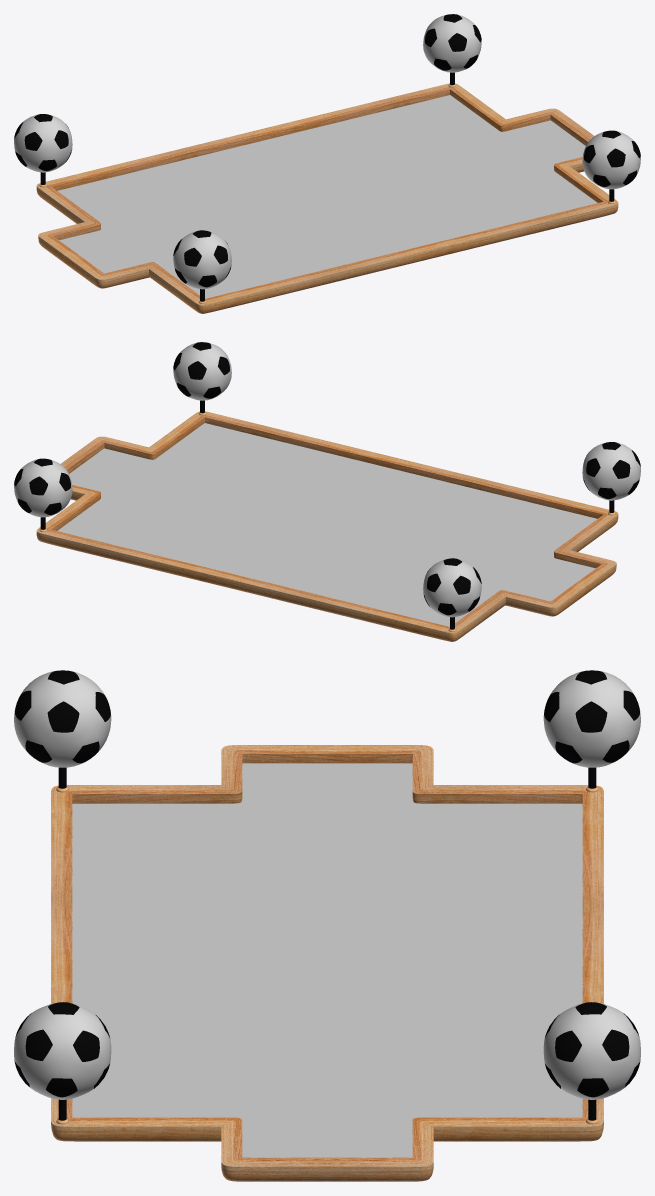
File: FootbalTable .fbx
3 renders of one model, top to bottom at view 1: azimuth 30°, elevation 25°; view 2: azimuth 150°, elevation 25°; view 3: azimuth 270°, elevation 25°, orthographic. The views are drawn at different scales.
Parts seen in each view (by area): view 1: FootbalTableField, FootbalTableBorder; view 2: FootbalTableField, FootbalTableBorder; view 3: FootbalTableField, FootbalTableBorder.
Boxes of the visible parts, bbox=[...] form: FootbalTableField: bbox=[57, 95, 597, 298]; FootbalTableBorder: bbox=[14, 14, 640, 313]; FootbalTableField: bbox=[57, 423, 597, 626]; FootbalTableBorder: bbox=[14, 342, 640, 641]; FootbalTableField: bbox=[72, 763, 582, 1157]; FootbalTableBorder: bbox=[14, 670, 640, 1181].
Bounding box in the file's own units: 23.46 × 3.48 × 14.74.
